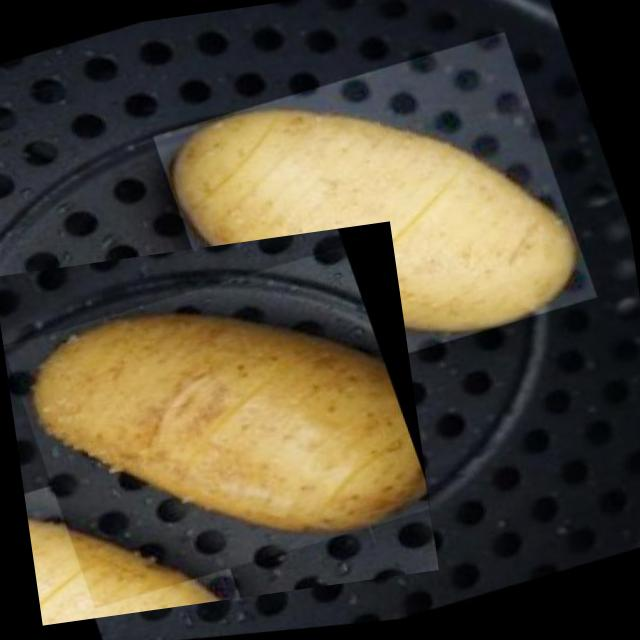Potato: (142, 12, 607, 426), (0, 221, 438, 625)
